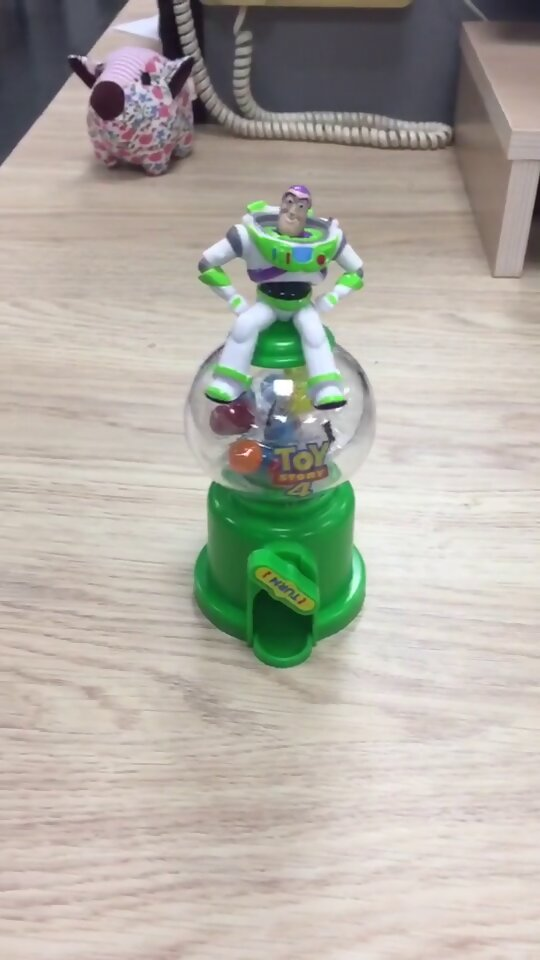buzz: (178, 174, 382, 677)
